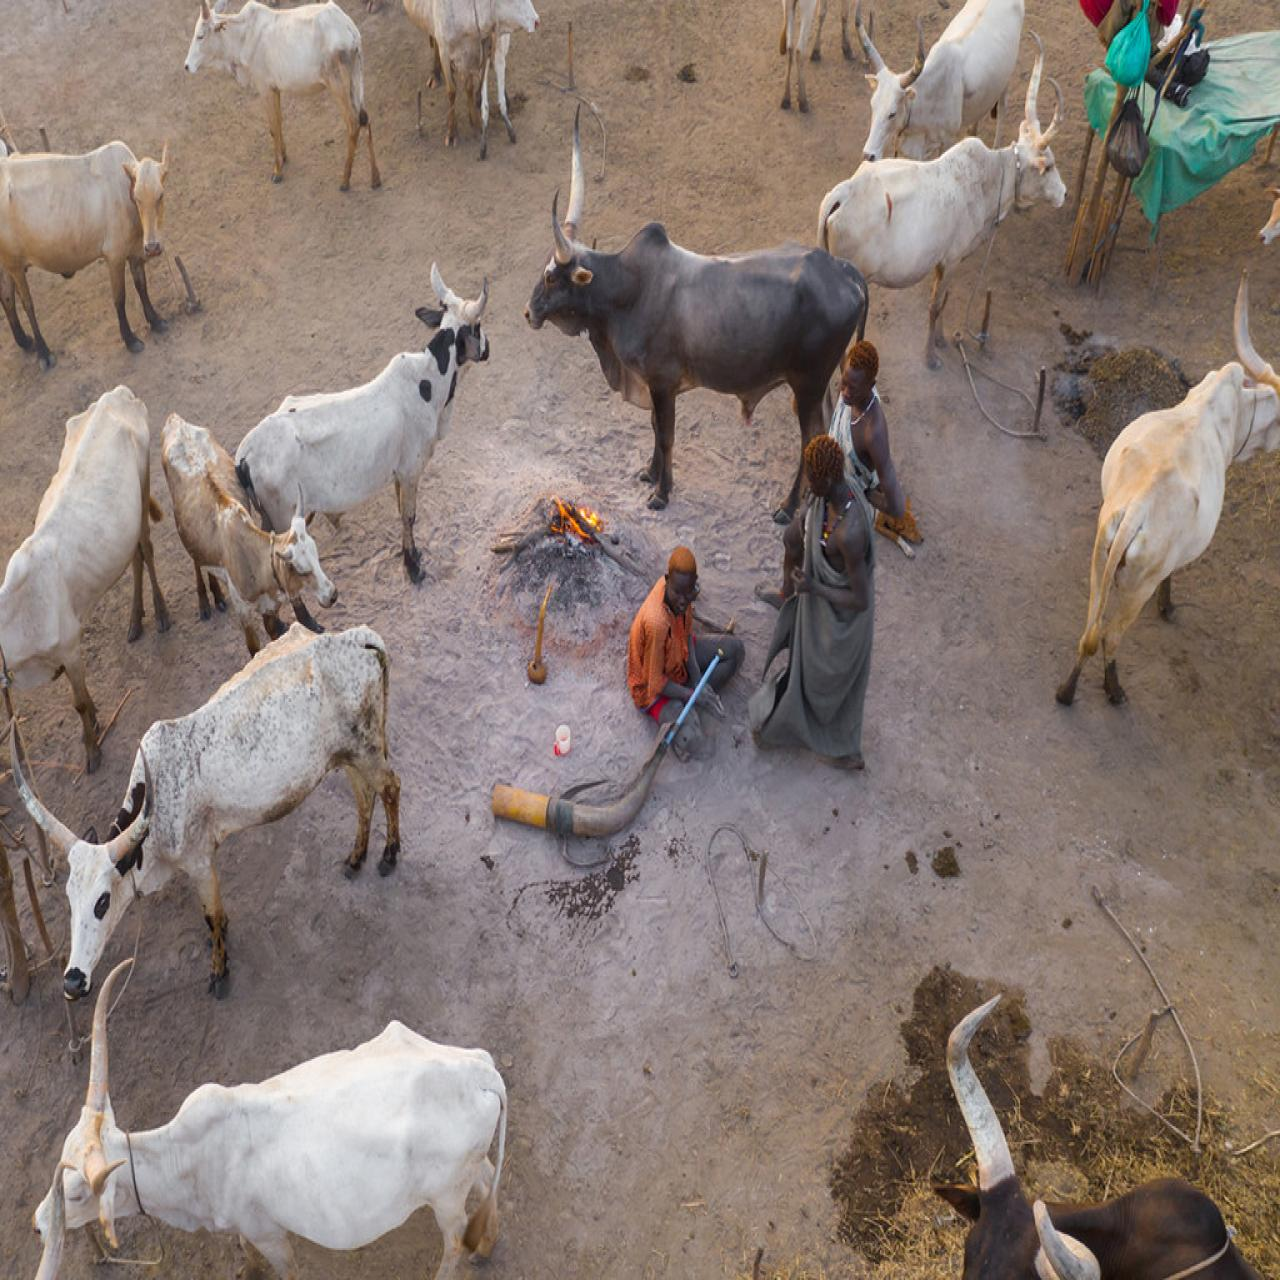cow: (1, 601, 429, 1037), (9, 1000, 540, 1278), (917, 942, 1278, 1280), (515, 196, 867, 522), (1054, 268, 1280, 742), (219, 267, 495, 636), (0, 373, 172, 787), (816, 125, 1078, 369), (128, 393, 341, 672), (0, 110, 189, 399), (164, 0, 394, 220), (849, 5, 1043, 185), (390, 0, 542, 164)
